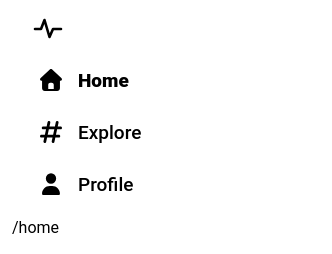
Scenario: NavRail — landmark and links › navigates in the adapter on a plain click
What coordinates should you click on to do the following:
click the link "Explore"
I would click on:
 (91, 132)
Its box is [40,120,141,144].
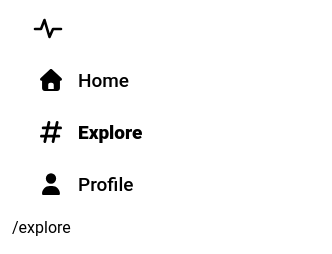
Check: the text with test id "where" reads "/explore", box [12,218,71,237]
What coordinates should you click on to do the following:
click the link "Profile"
I would click on:
 (87, 184)
Its box is [40,172,133,196].
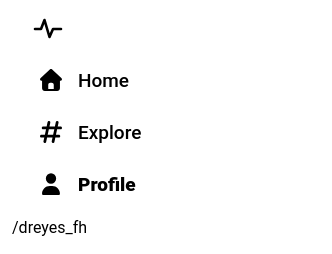
Check: the text with test id "where" reads "/dreyes_fh", box [12,218,87,237]
What coordinates should you click on to do the following:
click the link named "Pulse home"
I would click on:
 (48, 28)
Its box is [32,12,64,44].
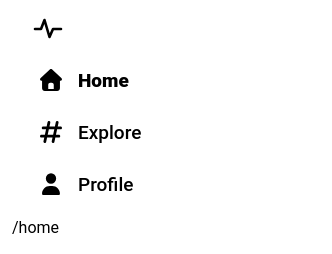
Check: the text with test id "where" reads "/home", box [12,218,59,237]
